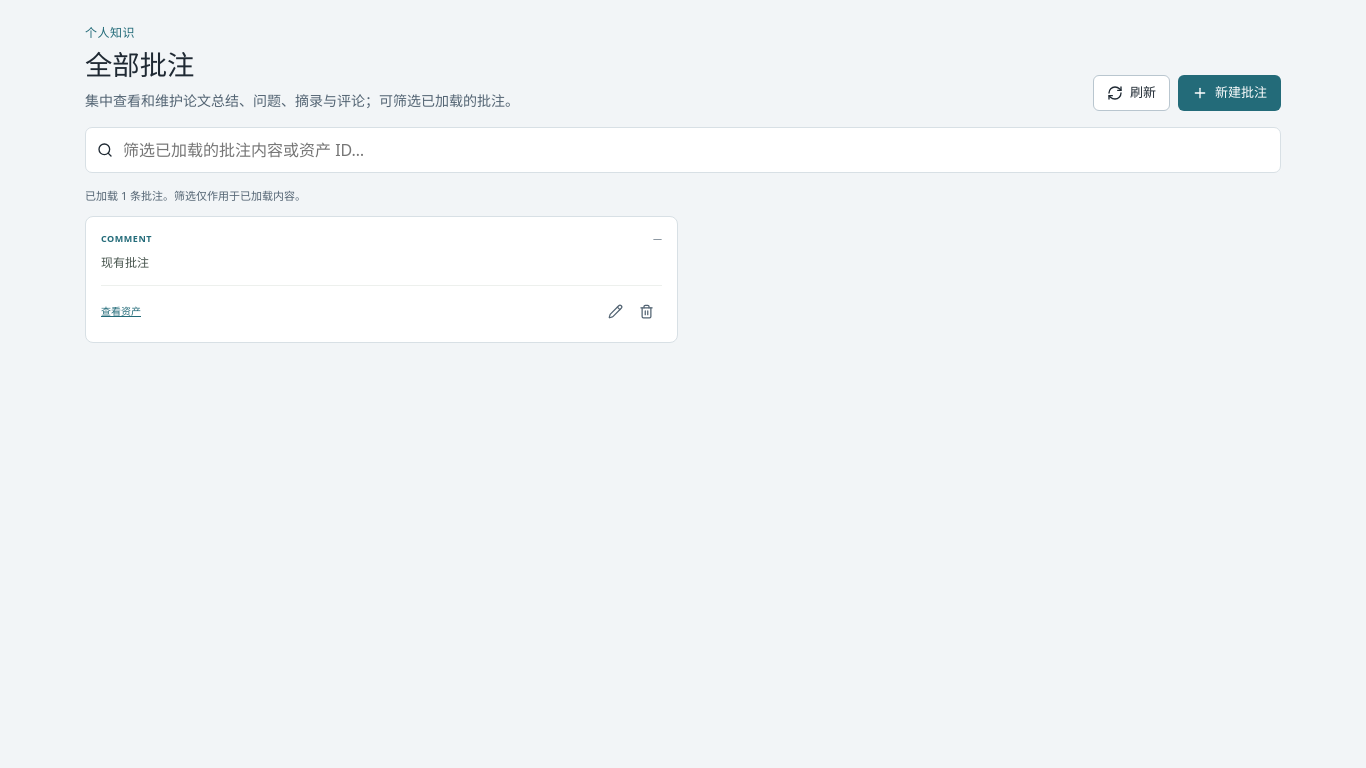
AnnotationsPage › keeps deletion recovery available when refreshing the latest version fails
The width and height of the screenshot is (1366, 768).
expect the text "现有批注" is shown: met, box [101,254,149,271]
Click the 2nd button named "删除批注".
click(646, 312)  # box [631,296,662,327]
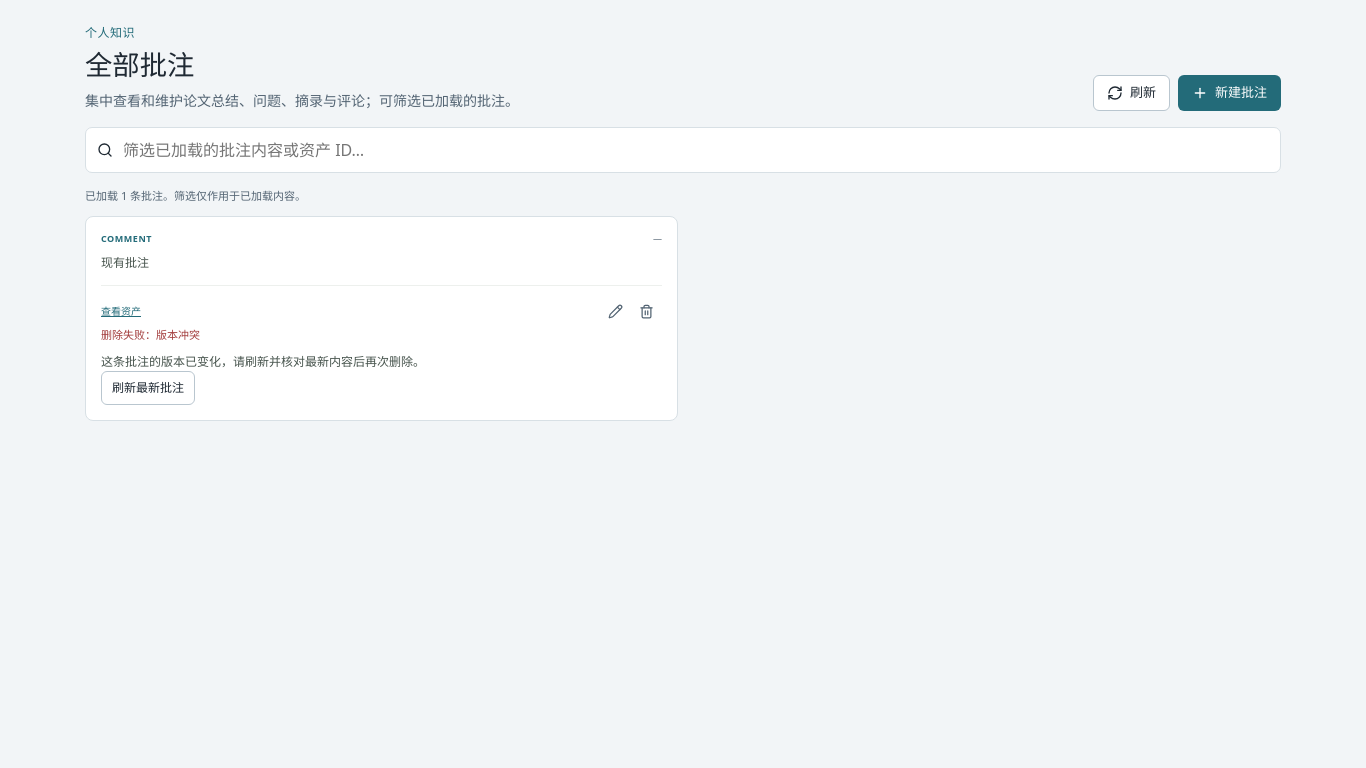
expect the text "删除失败：版本冲突 这条批注的版本已变化，请刷新并核对最新内容后再次删除。 刷新最新批注" is shown: met, box [101,327,425,405]
Click the button "刷新最新批注".
click(148, 388)  # box [101,371,195,405]
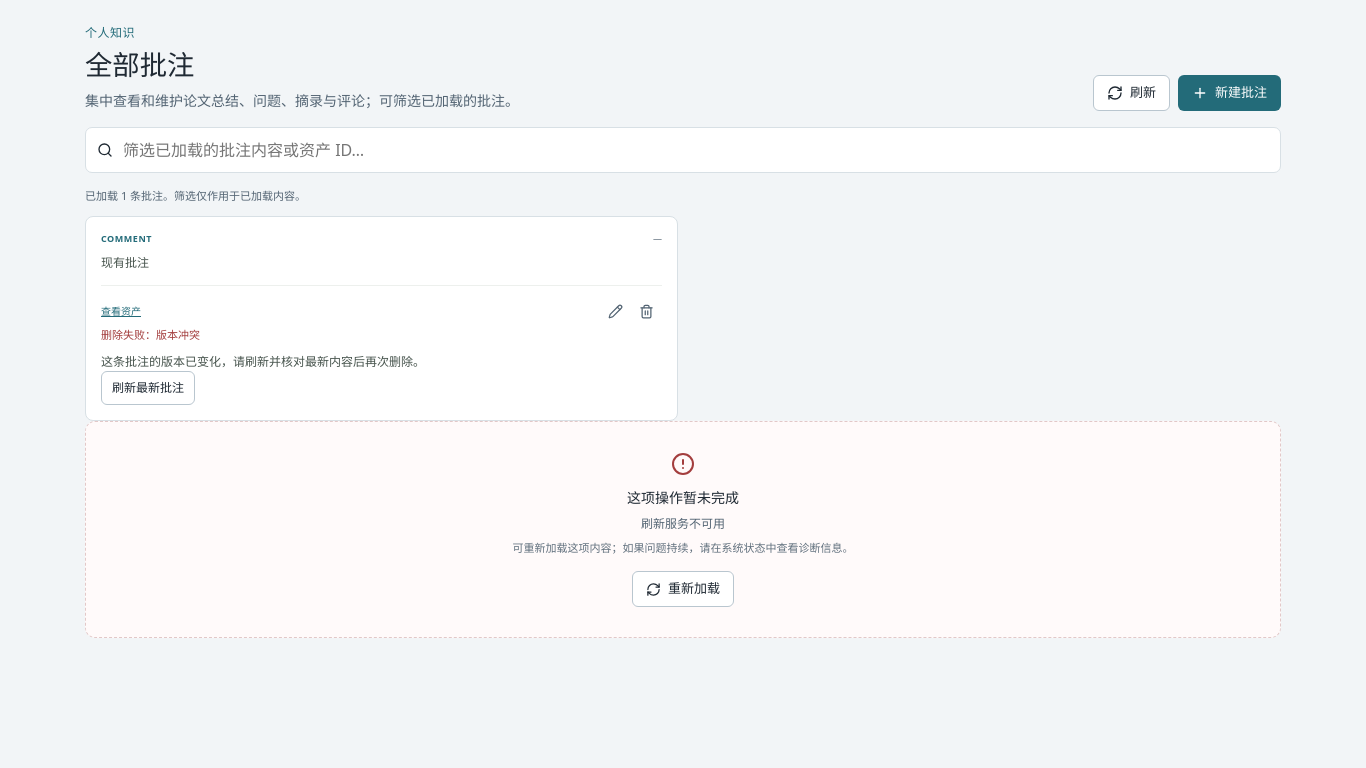
expect the text "现有批注" is shown: met, box [101,254,149,271]
expect the button "刷新最新批注" is shown: met, box [101,371,195,405]
expect the text "刷新服务不可用" is shown: met, box [641,515,725,533]
